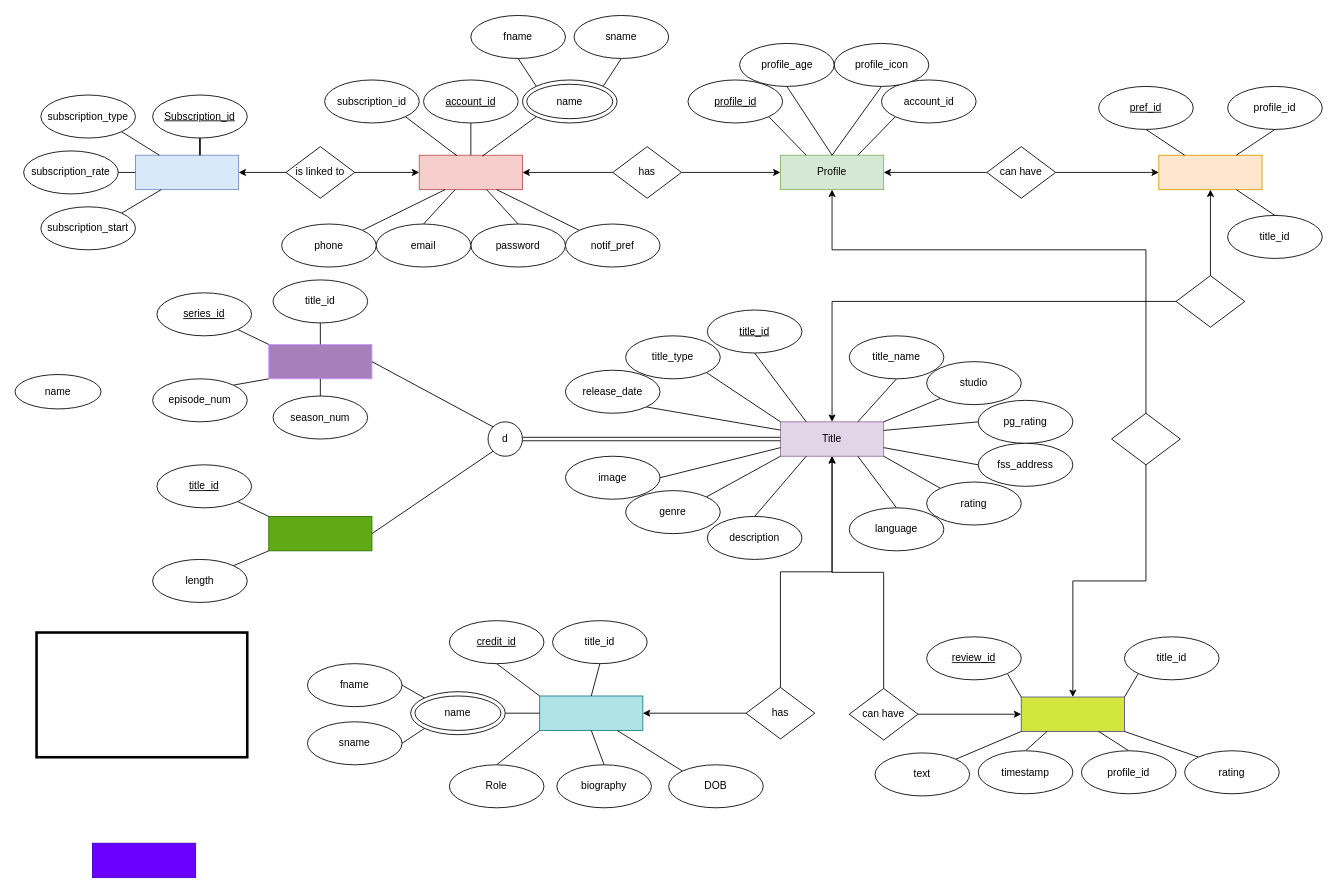
The diagram is 1337 pixels wide and 893 high, and some of its shapes have lost their labels. The shapes that lost their labels are listed below. From the top down, each one's centre as x and y in pixels, then its label:
the point at 187,172: Subcription
the point at 470,172: Account
the point at 1210,172: Preferences
the point at 1210,301: refers to
the point at 320,361: Series
the point at 1145,438: can write
the point at 320,533: Movie
the point at 141,694: Category Entity? Relation names Arity Weak entities and attributes
the point at 591,712: Credits
the point at 1072,713: Review
the point at 144,860: Category?
